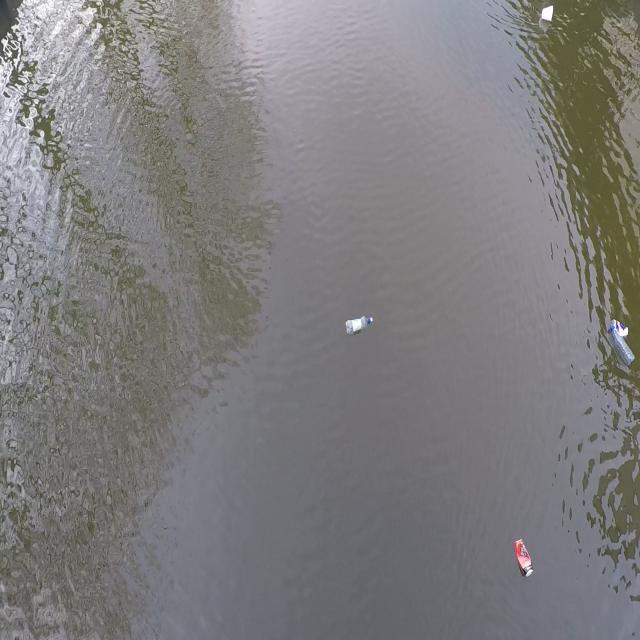Bouteille plastique: (602, 324, 638, 379), (346, 316, 373, 335)
Non plastique: (606, 311, 636, 341), (514, 539, 533, 577), (538, 3, 557, 28)
